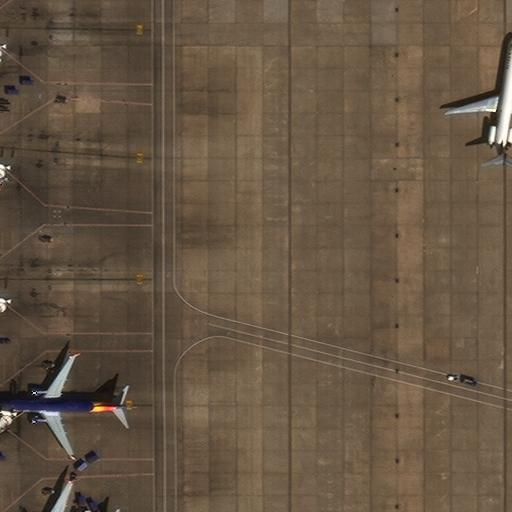Medium Civil Transport: (0, 356, 128, 458), (448, 40, 512, 165), (30, 481, 101, 512)
